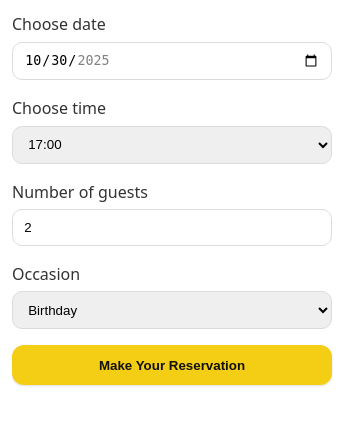
Scenario: BookingForm Validation Tests › disables submit when guests are out of range (e.g., 0)
Replace the text in the number field labelled "Number of guests" with "0": point(172, 228) [12,210,332,246]
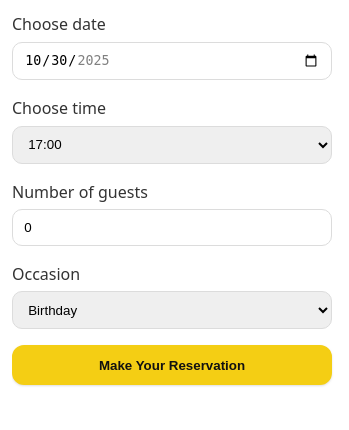
Check: the button "Make Your Reservation" is disabled, box [12,346,332,385]
parodoma klaida (React pusės)
Leave the number field labelled "Number of guests", box [12,210,332,246]
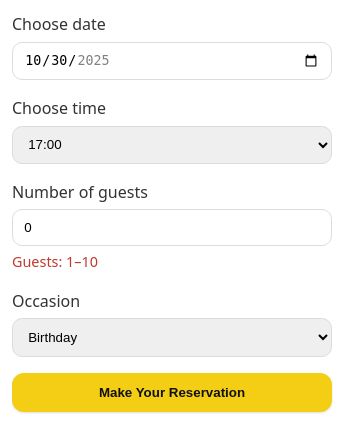
Check: the text "Guests: 1–10" is shown, box [12,252,98,271]
